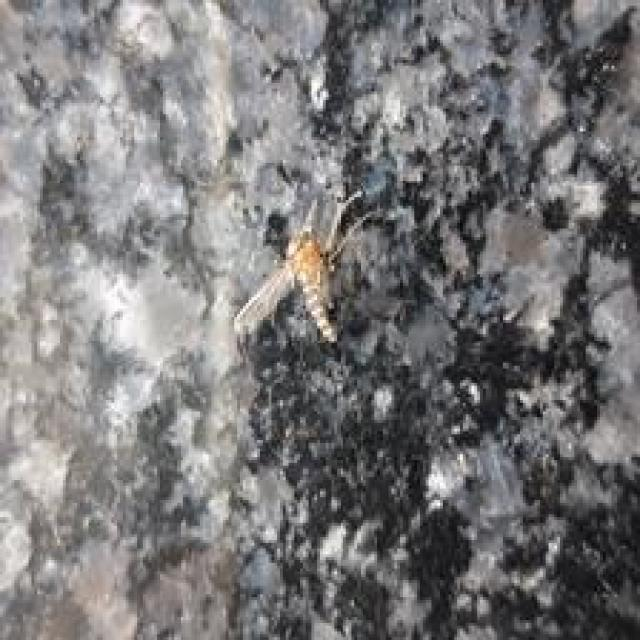Culex: (231, 184, 380, 356)
